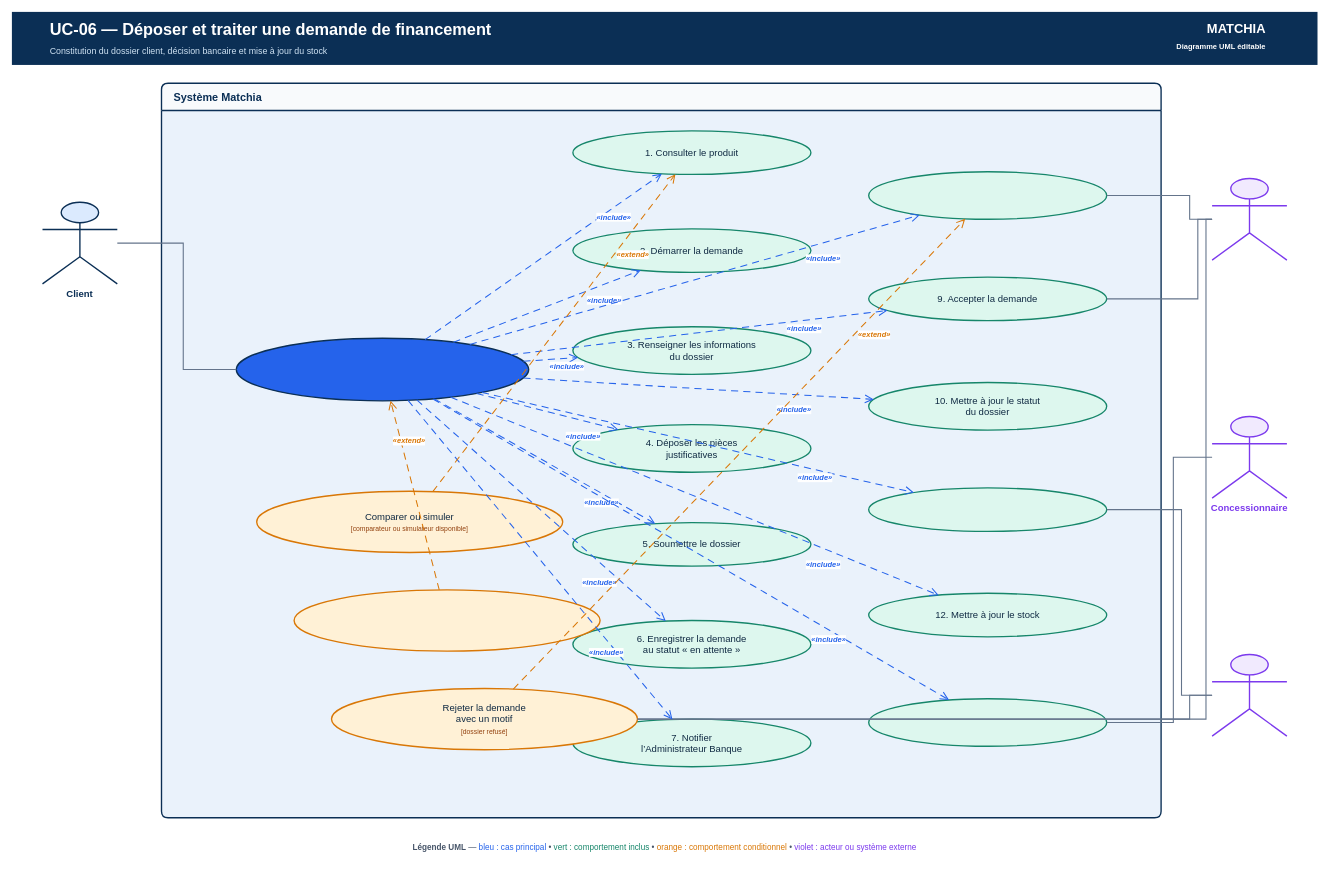
Some shapes in this 1329 by 876 pixel diagram are drawn without their labels. Here are the shapes that lost their labels. From the top down, the centre of each, then its label:
the point at 987,195: 8. Consulter le dossier et les documents
the point at 1249,218: Administrateur Banque
the point at 382,369: Déposer et traiter une demande de financement
the point at 987,509: 11. Notifier le client
the point at 446,620: Compléter ou corriger le dossier [information ou pièce obligatoire manquante]
the point at 1249,694: Service e-mail
the point at 987,722: 13. Consulter le dossier lié au produit
